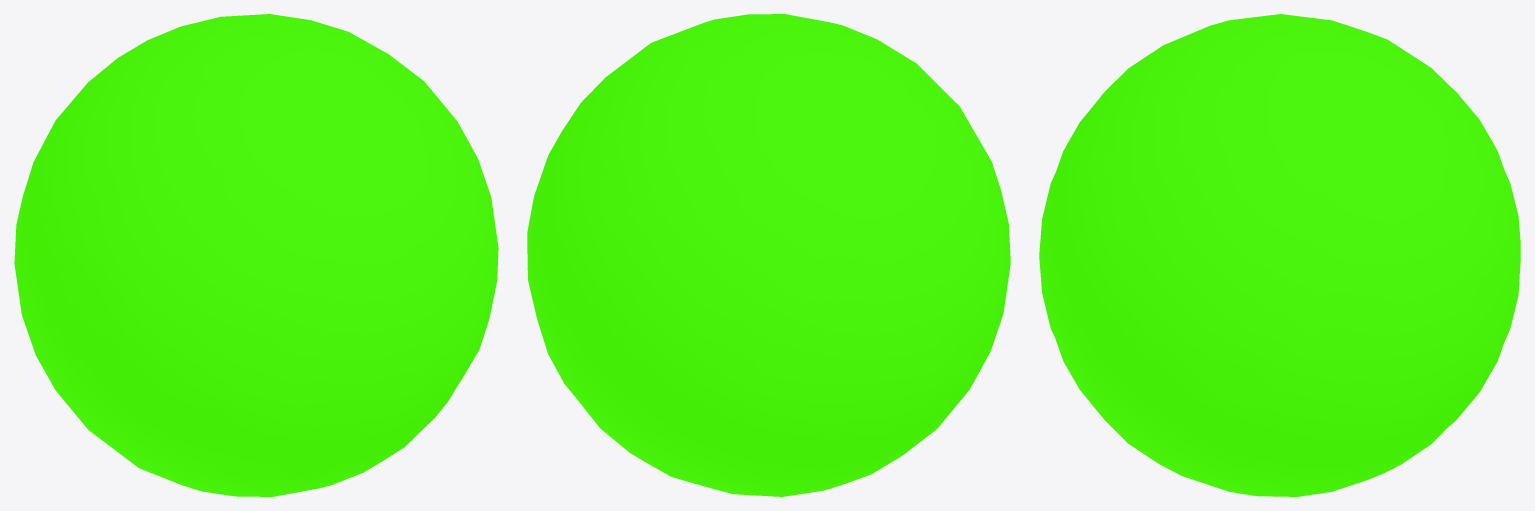
Rendered from ball.glb.
The picture shows the model from 3 angles, left to right: view 1: azimuth 30°, elevation 25°; view 2: azimuth 150°, elevation 25°; view 3: azimuth 270°, elevation 25°; orthographic projection.
Visible parts, largest first — view 1: Sphere_6; view 2: Sphere_6; view 3: Sphere_6.
Part boxes in pixels (x1,y1,x2,y2): Sphere_6: [14, 14, 498, 496]; Sphere_6: [527, 14, 1010, 496]; Sphere_6: [1039, 14, 1520, 496].
Bounding box in the file's own units: 1.99 × 1.99 × 1.99.
